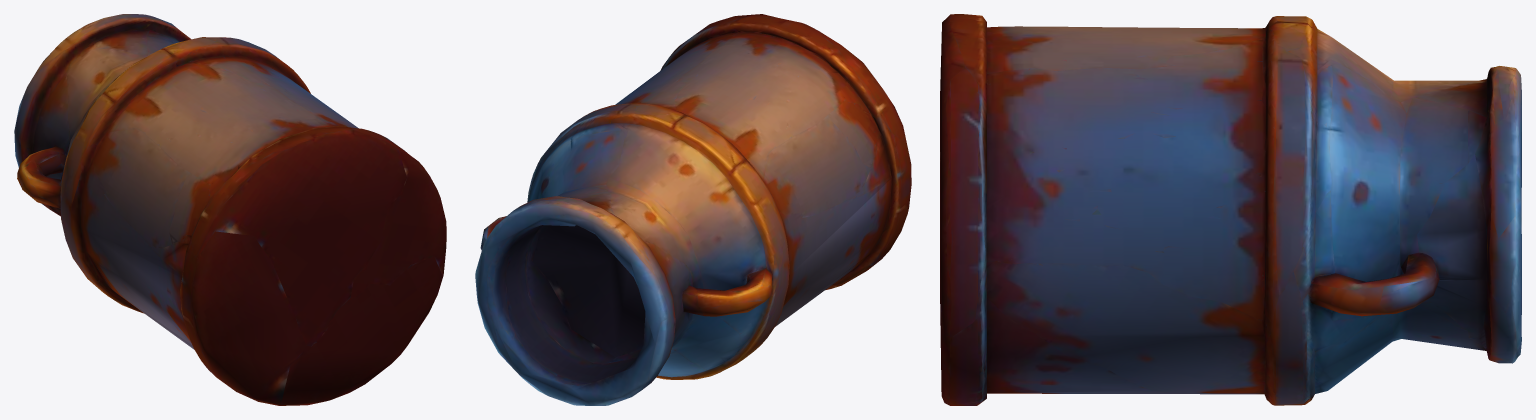
The picture shows the model from 3 angles, left to right: view 1: azimuth 30°, elevation 25°; view 2: azimuth 150°, elevation 25°; view 3: azimuth 270°, elevation 25°; orthographic projection. The views are drawn at different scales.
Parts seen in each view (by area): view 1: material; view 2: material; view 3: material.
Boxes of the visible parts, bbox=[...] form: material: bbox=[14, 14, 446, 405]; material: bbox=[475, 14, 911, 405]; material: bbox=[940, 14, 1521, 405].
Size of the model in its own units: 0.7415 by 0.6704 by 1.
1 material, 1 textured.
